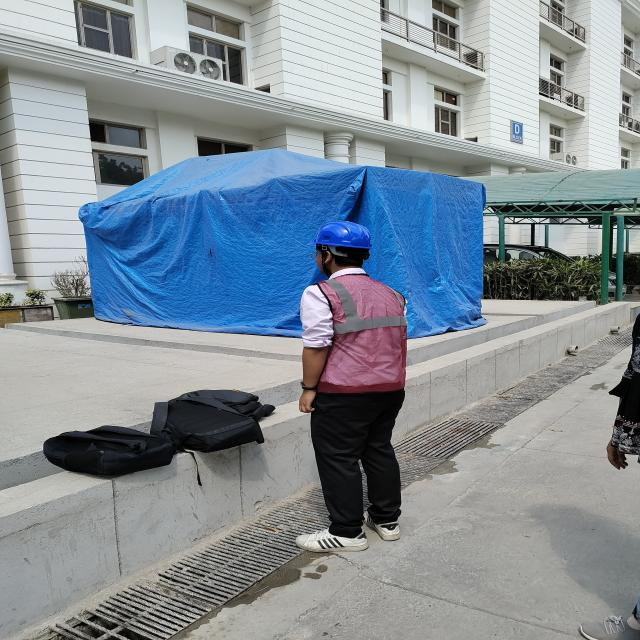safe: (298, 222, 406, 552)
